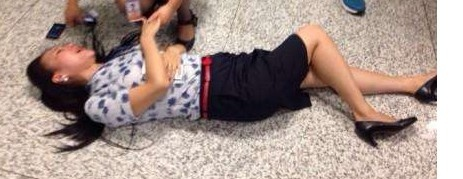falling: (19, 4, 440, 155)
